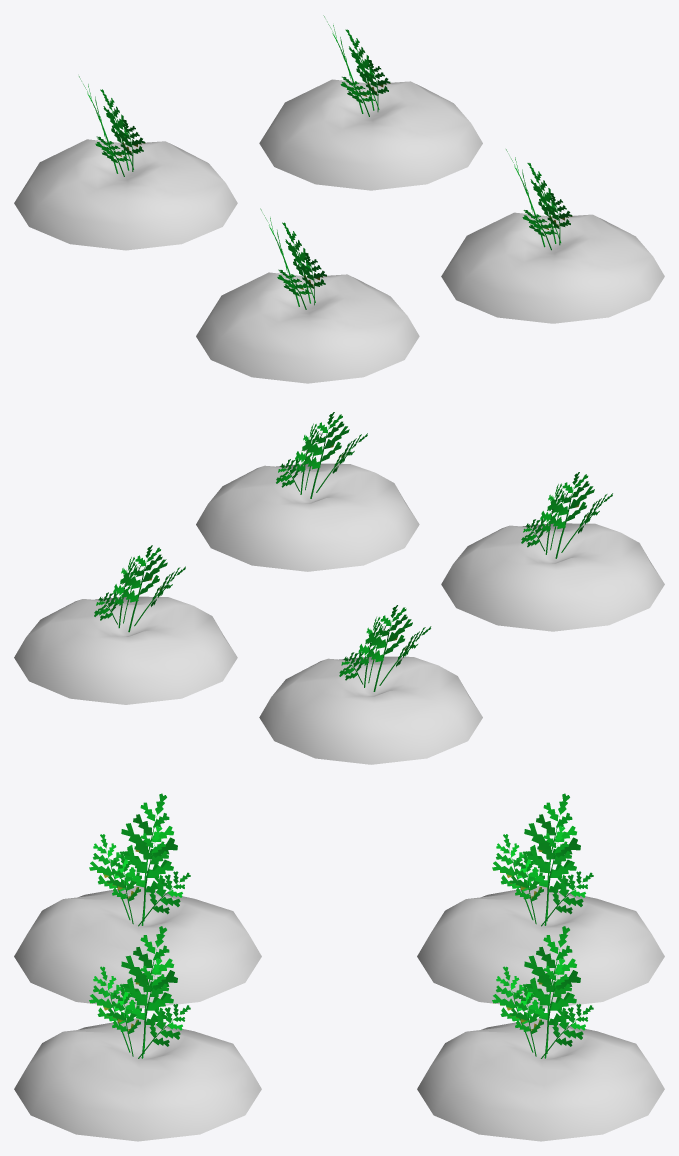
Rendered from Carrot3.fbx.
3 views of the same model, one above another, from view 1: azimuth 30°, elevation 25°; view 2: azimuth 150°, elevation 25°; view 3: azimuth 270°, elevation 25° (orthographic). The views are drawn at different scales.
Visible parts, largest first — view 1: Circle.014, Circle.015; view 2: Circle.014, Circle.015; view 3: Circle.014, Circle.015.
Boxes of the visible parts, x1,y1,x2,y2 form: Circle.014: (14,79,664,383); Circle.015: (79,15,572,309); Circle.014: (14,463,664,764); Circle.015: (94,412,612,691); Circle.014: (14,885,664,1141); Circle.015: (89,793,593,1058).
Size of the model in its own units: 453 by 128 by 525.
